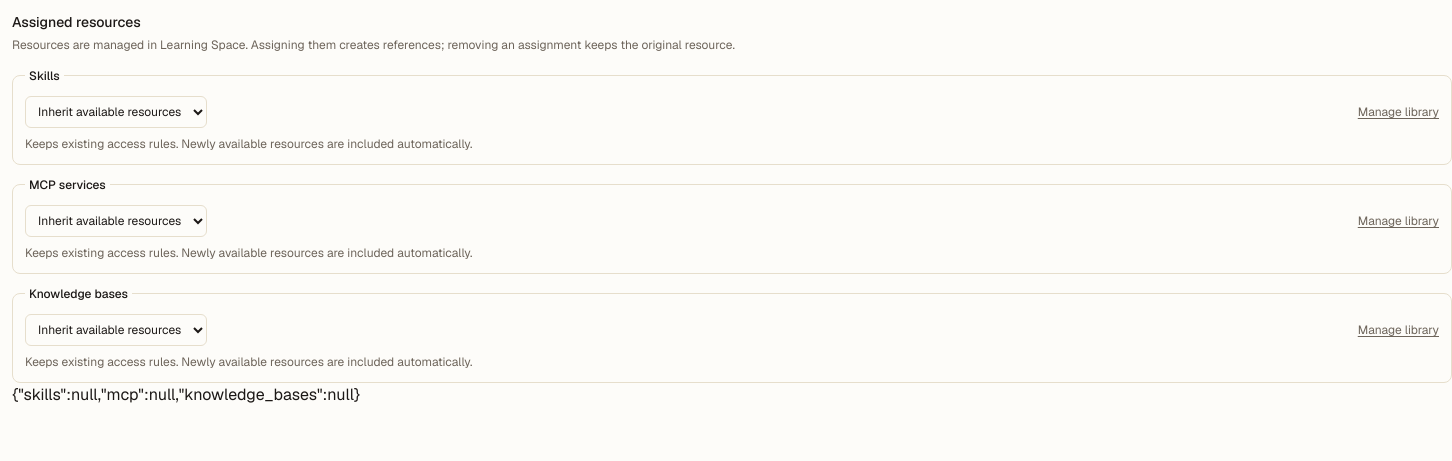
Test: preserves inherited access and supports an explicit empty selection per resource type
Check: the text with test id "policy" shows "\"skills\":null", box [12,384,360,404]
Select "Only selected resources" in the dropdown named "Skills assignment mode": (116, 112) [25,96,207,128]
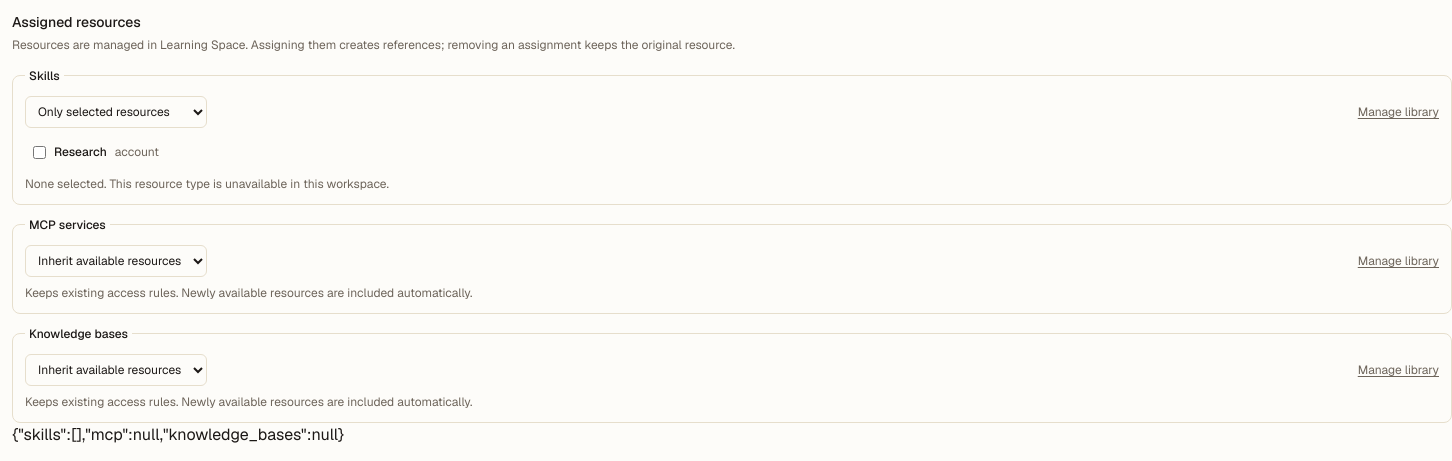
Check: the text with test id "policy" shows "\"skills\":[]", box [12,424,344,444]
Click the checkbox labelled "Research": (40, 152) [33,146,46,158]
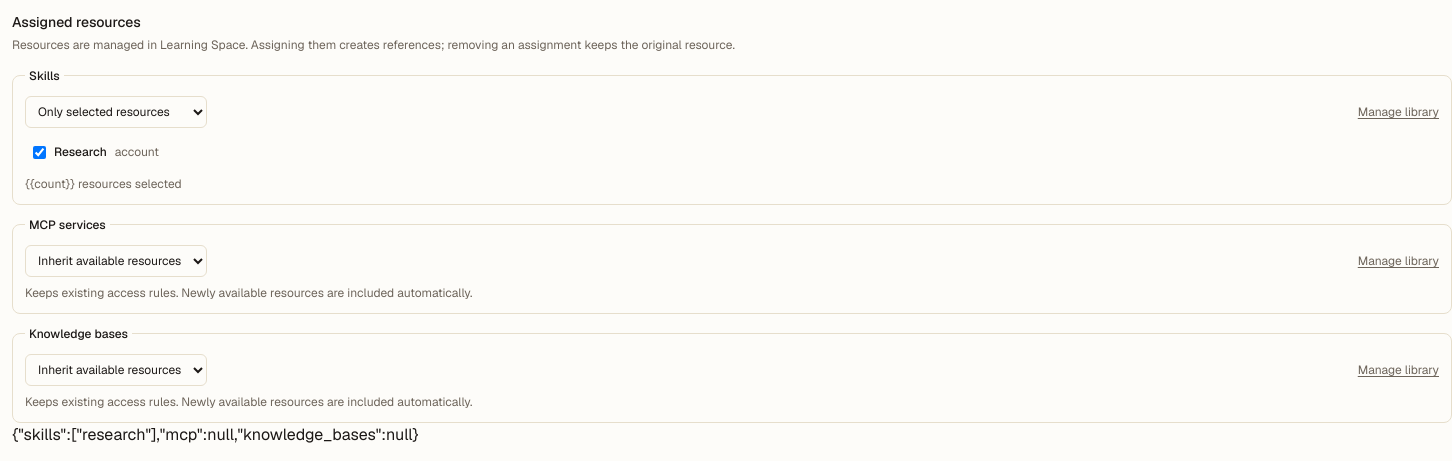
Check: the text with test id "policy" shows "\"mcp\":null", box [12,424,419,444]
Check: the text with test id "policy" shows "\"skills\":[\"research\"]", box [12,424,419,444]
Select "Inherit available resources" in the dropdown named "Skills assignment mode": (116, 112) [25,96,207,128]
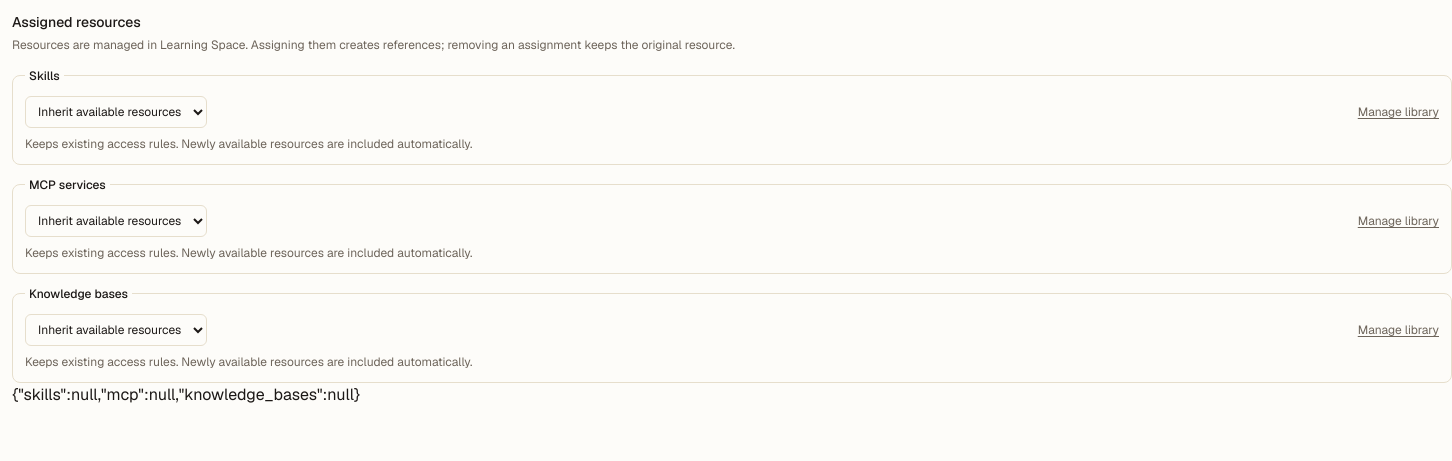
Check: the text with test id "policy" shows "\"skills\":null", box [12,384,360,404]
